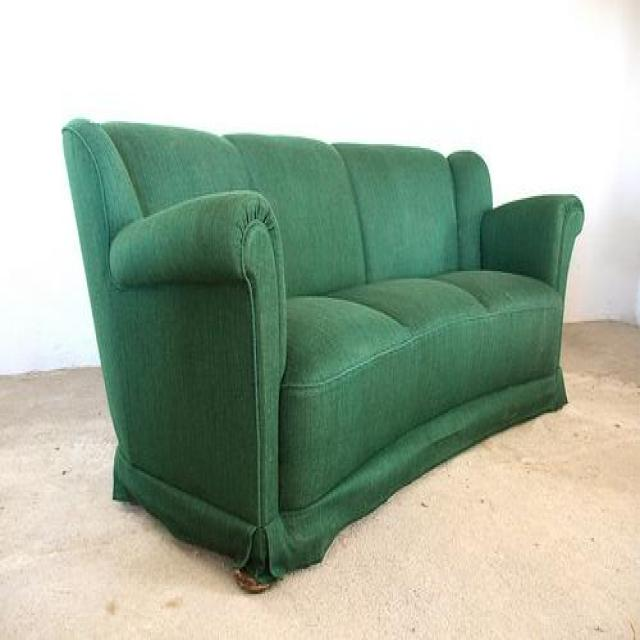sofa: (60, 113, 585, 592)
